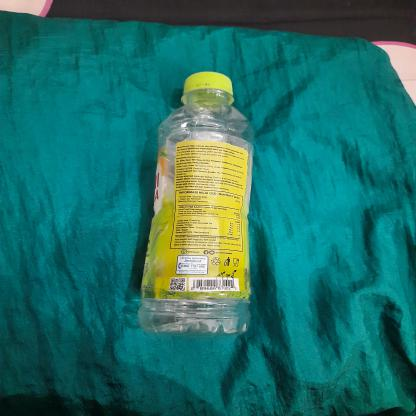bottle: (134, 69, 256, 332)
